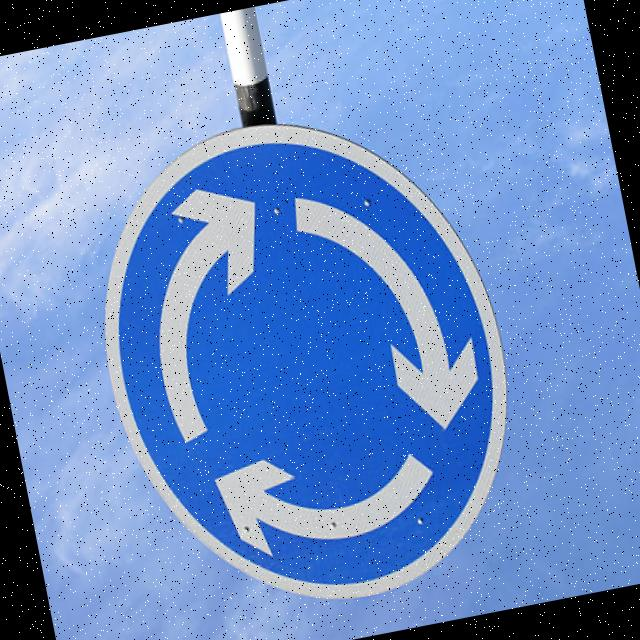round_about: (67, 84, 545, 638)
